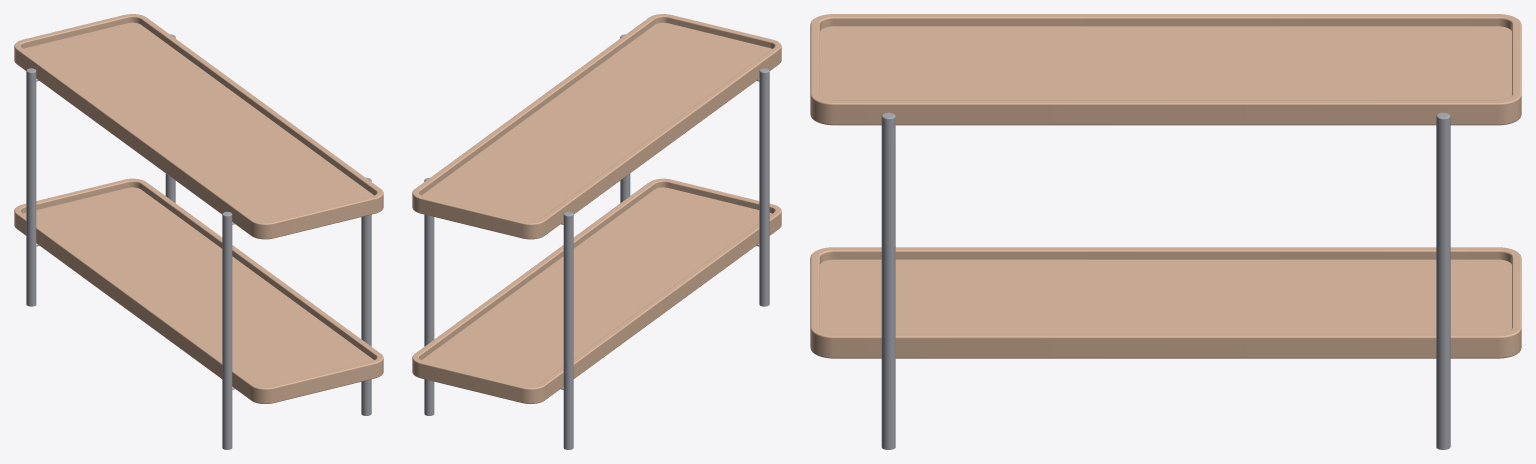
File: aparador-pecorino.glb
The picture shows the model from 3 angles, left to right: view 1: azimuth 30°, elevation 25°; view 2: azimuth 150°, elevation 25°; view 3: azimuth 270°, elevation 25°; orthographic projection. The views are drawn at different scales.
Size of the model in its own units: 0.5099 by 0.792 by 1.5.
